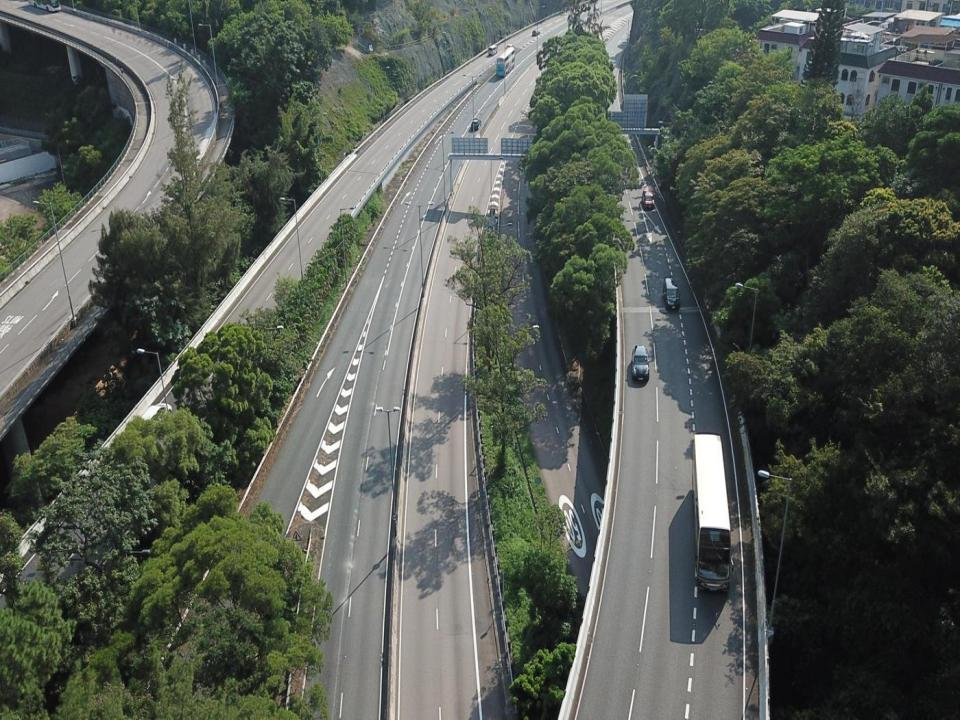bus: (692, 433, 734, 594), (495, 46, 516, 77), (487, 44, 498, 56)
car: (631, 342, 651, 382), (641, 188, 656, 210), (470, 117, 482, 132), (531, 28, 541, 36)
van: (662, 275, 682, 311)
